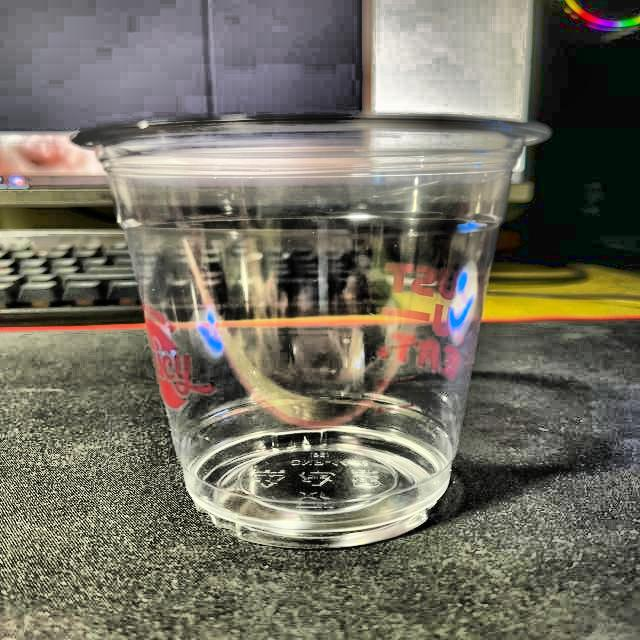plastic cup: (68, 113, 559, 550)
